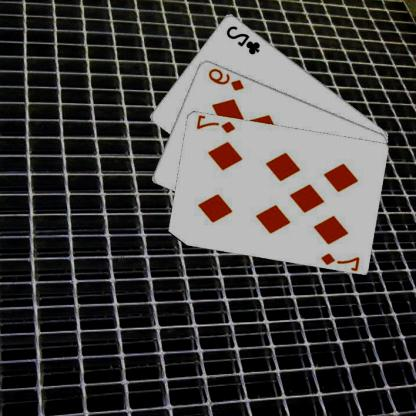2C: (225, 23, 263, 56)
7D: (195, 114, 238, 134), (320, 250, 362, 270)
9D: (207, 65, 247, 92)
